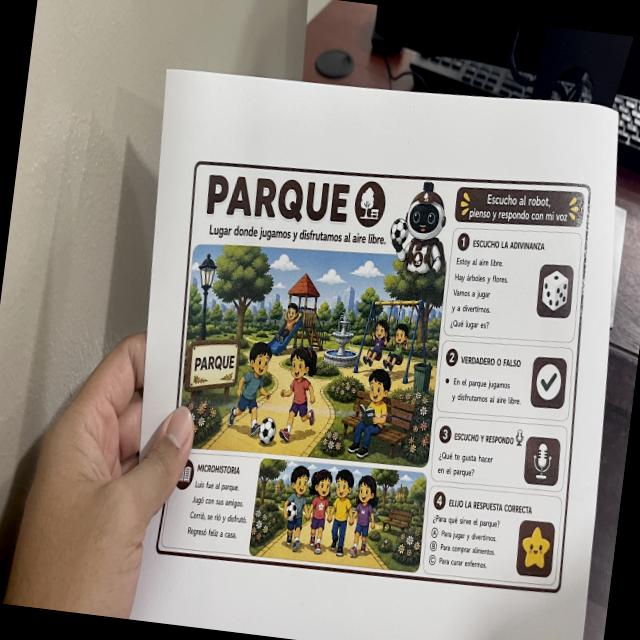parque: (143, 131, 612, 608)
